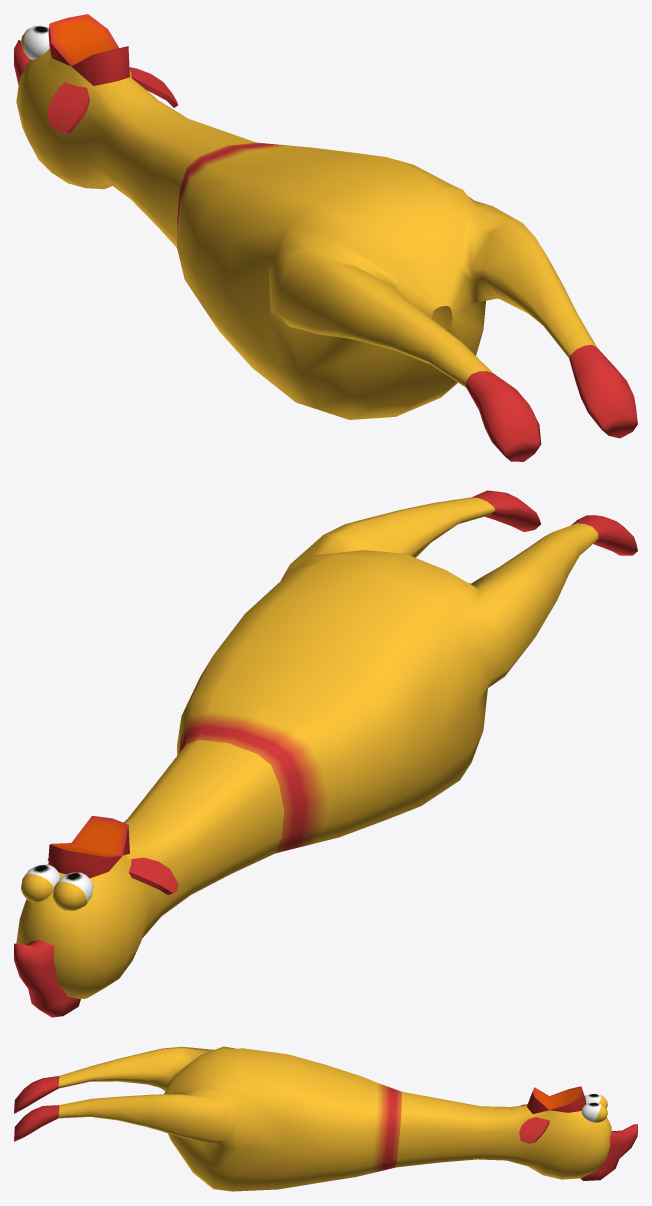
The model's file is Duck02.FBX.
3 renders of one model, top to bottom at view 1: azimuth 30°, elevation 25°; view 2: azimuth 150°, elevation 25°; view 3: azimuth 270°, elevation 25°, orthographic. The views are drawn at different scales.
Parts seen in each view (by area): view 1: Duck02; view 2: Duck02; view 3: Duck02.
Boxes of the visible parts, box(x1,y1,x2,y2) form: Duck02: box(14, 14, 637, 461); Duck02: box(14, 490, 637, 1017); Duck02: box(14, 1046, 637, 1191).
Bounding box in the file's own units: 42.95 × 38.57 × 178.
